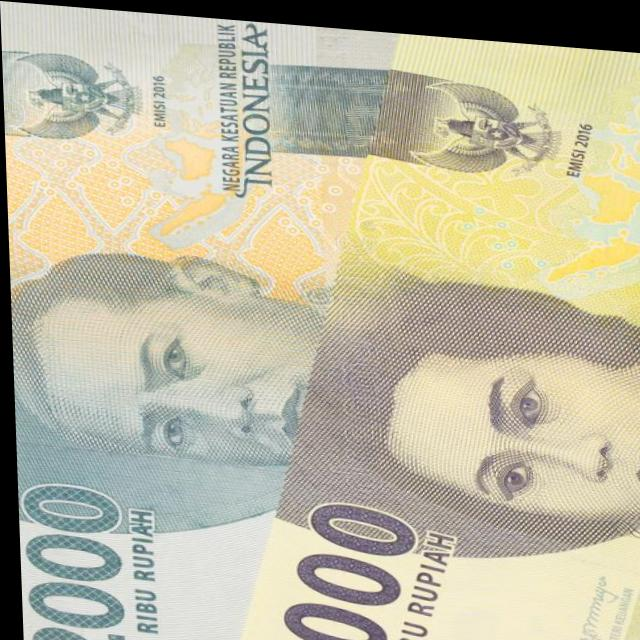1000IndonesianRupiah: (244, 16, 640, 640)
